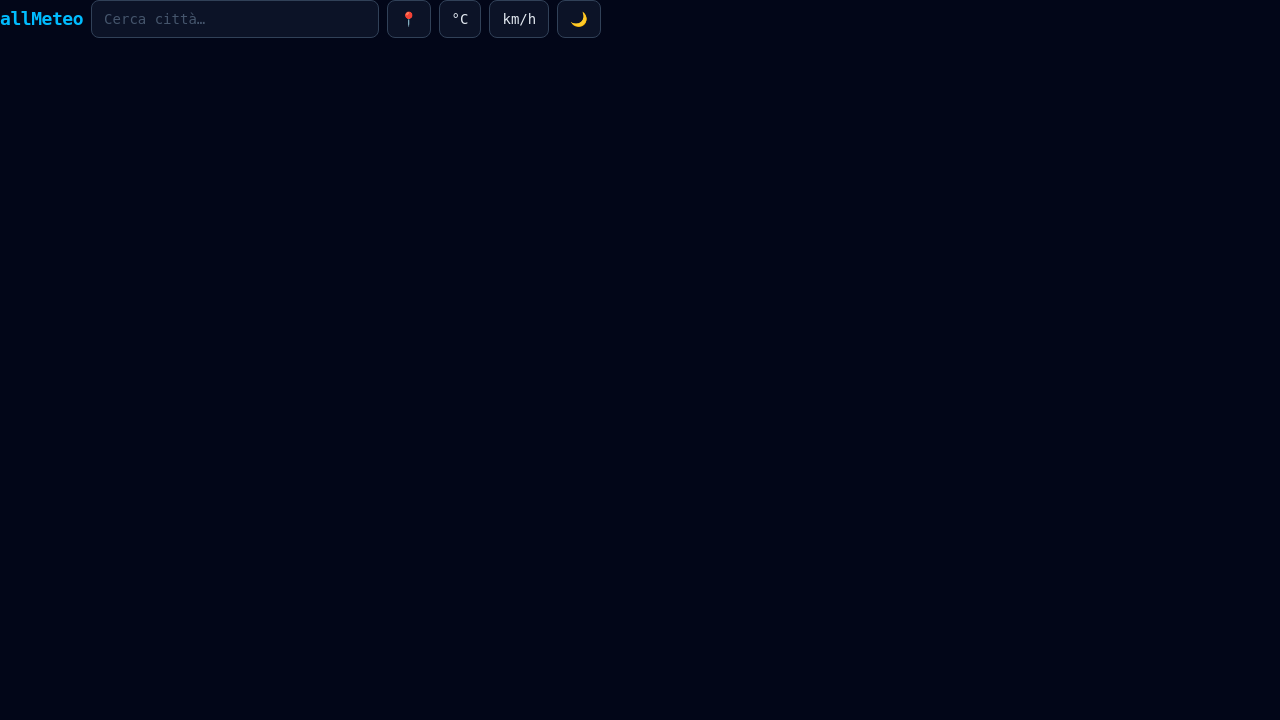
Scenario: Header · tema › scuro → chiaro → sistema, applicato alla pagina e ricordato
Click the button named "Tema: scuro" at coordinates (579, 19), box [557, 0, 601, 38]
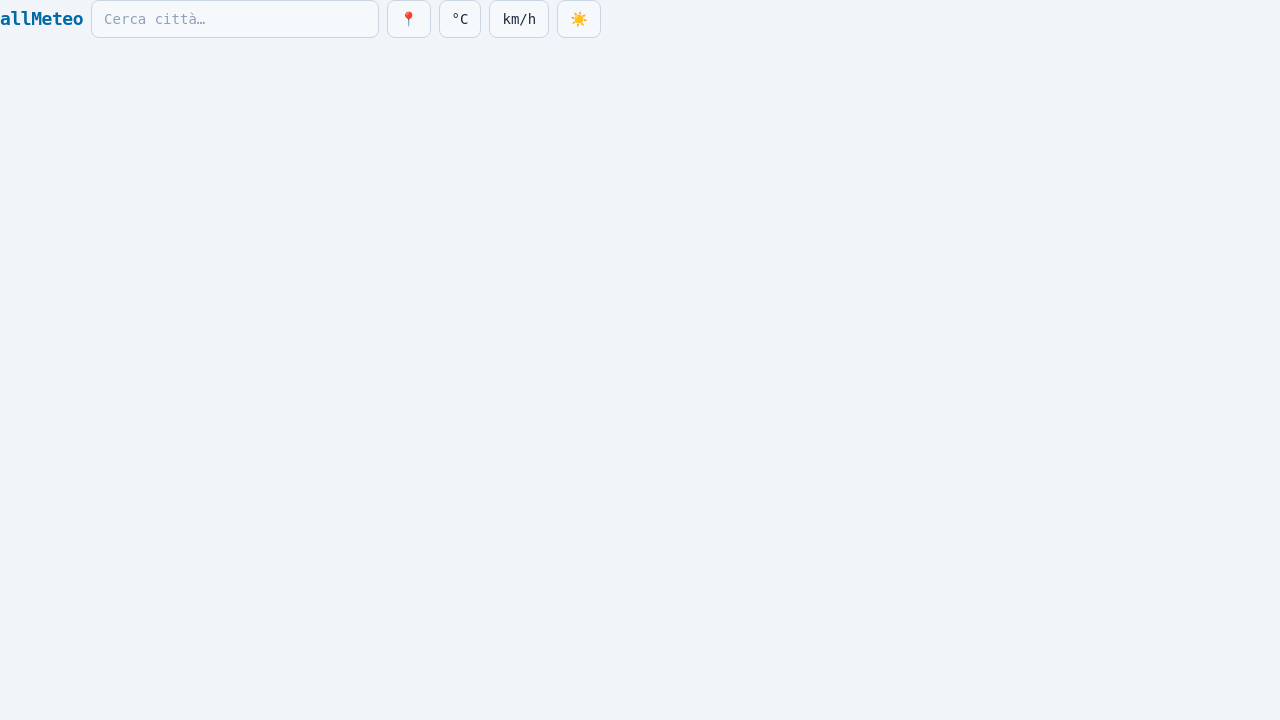
Click the button named "Tema: chiaro" at coordinates (579, 19), box [557, 0, 601, 38]
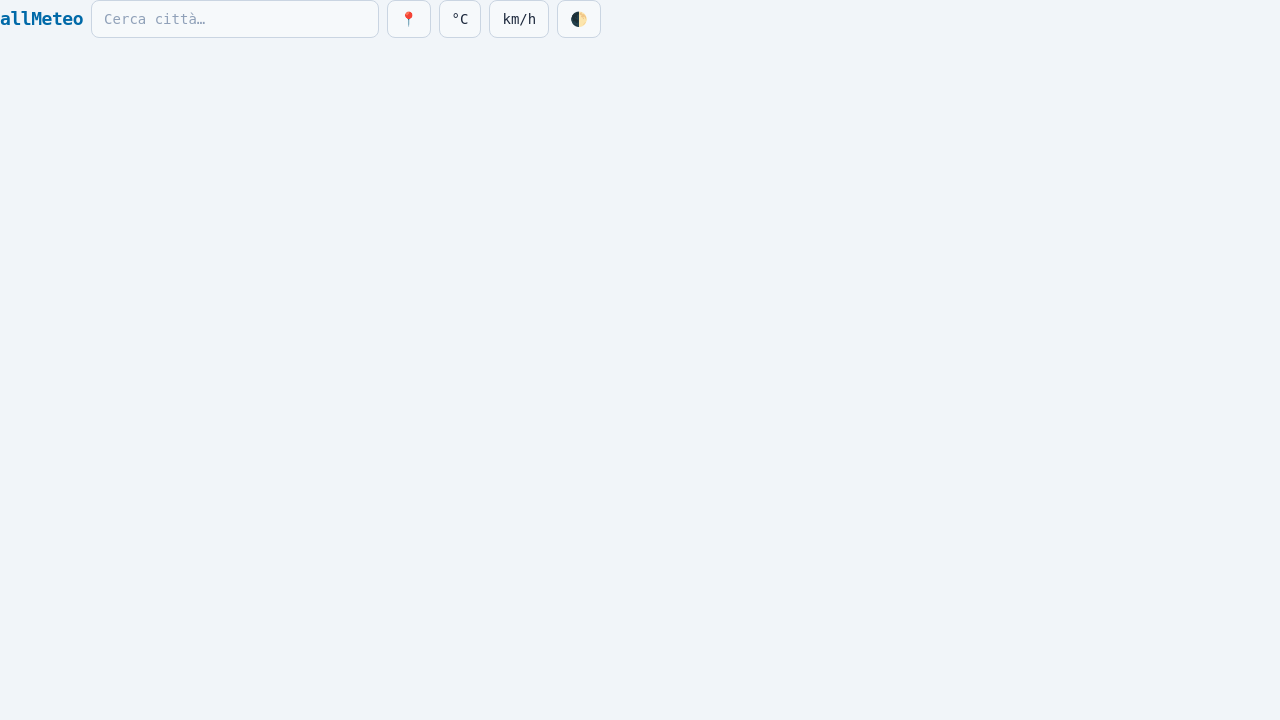
Now the button named "Tema: come il sistema" is shown, box [557, 0, 601, 38]
